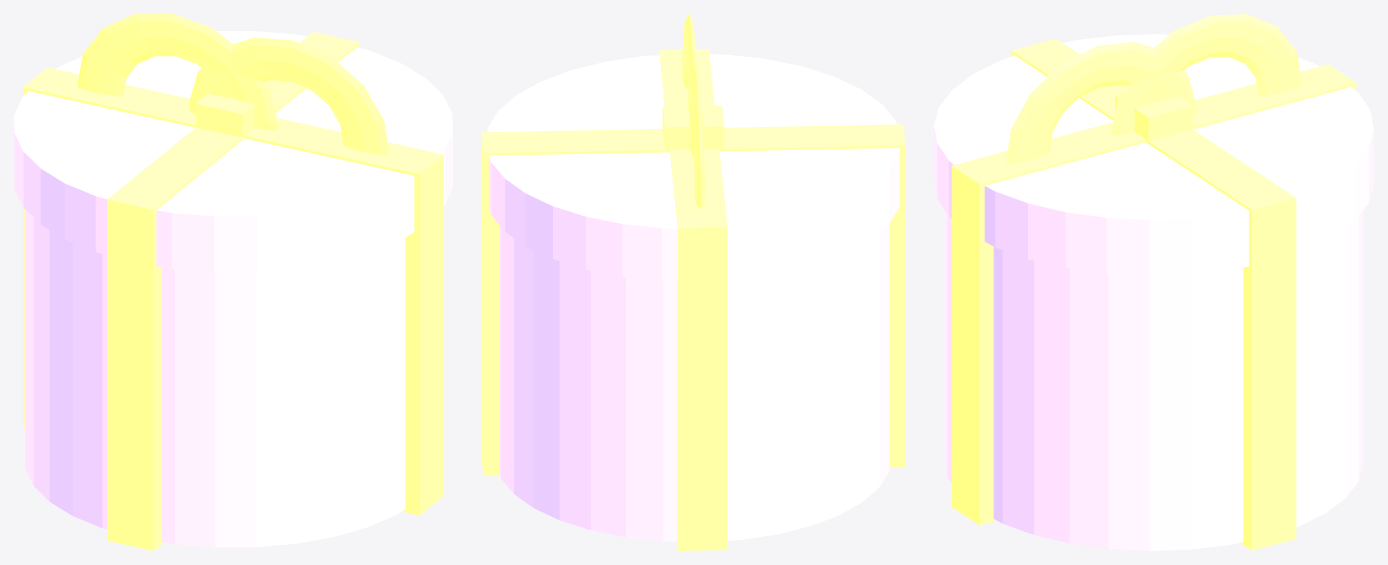
Rendered from Tmpl_Round_Root_214.glb.
The picture shows the model from 3 angles, left to right: view 1: azimuth 30°, elevation 25°; view 2: azimuth 150°, elevation 25°; view 3: azimuth 270°, elevation 25°; orthographic projection. The views are drawn at different scales.
Visible parts, largest first — view 1: Tmpl_Round_Base.212, Tmpl_Round_Lid.212, Tmpl_Round_Ribbon_Y.212, Tmpl_Round_Ribbon_X.212, Tmpl_Round_BowR.212, Tmpl_Round_BowL.212, Tmpl_Round_BowKnot.212; view 2: Tmpl_Round_Base.212, Tmpl_Round_Lid.212, Tmpl_Round_Ribbon_X.212, Tmpl_Round_Ribbon_Y.212, Tmpl_Round_BowKnot.212, Tmpl_Round_BowR.212, Tmpl_Round_BowL.212; view 3: Tmpl_Round_Base.212, Tmpl_Round_Lid.212, Tmpl_Round_Ribbon_Y.212, Tmpl_Round_Ribbon_X.212, Tmpl_Round_BowR.212, Tmpl_Round_BowL.212, Tmpl_Round_BowKnot.212.
Part boxes in pixels (bbox=[...]): Tmpl_Round_Base.212: bbox=[24, 209, 405, 547]; Tmpl_Round_Lid.212: bbox=[14, 31, 452, 272]; Tmpl_Round_Ribbon_Y.212: bbox=[107, 32, 359, 550]; Tmpl_Round_Ribbon_X.212: bbox=[23, 67, 443, 515]; Tmpl_Round_BowR.212: bbox=[77, 14, 278, 130]; Tmpl_Round_BowL.212: bbox=[188, 37, 389, 154]; Tmpl_Round_BowKnot.212: bbox=[195, 90, 271, 139]; Tmpl_Round_Base.212: bbox=[499, 223, 889, 541]; Tmpl_Round_Lid.212: bbox=[487, 54, 899, 281]; Tmpl_Round_Ribbon_X.212: bbox=[659, 49, 727, 550]; Tmpl_Round_Ribbon_Y.212: bbox=[481, 124, 905, 475]; Tmpl_Round_BowKnot.212: bbox=[662, 105, 724, 152]; Tmpl_Round_BowR.212: bbox=[687, 65, 704, 208]; Tmpl_Round_BowL.212: bbox=[682, 14, 697, 156]; Tmpl_Round_Base.212: bbox=[944, 210, 1363, 550]; Tmpl_Round_Lid.212: bbox=[934, 34, 1373, 275]; Tmpl_Round_Ribbon_Y.212: bbox=[1011, 38, 1296, 550]; Tmpl_Round_Ribbon_X.212: bbox=[951, 64, 1356, 525]; Tmpl_Round_BowR.212: bbox=[1111, 14, 1302, 135]; Tmpl_Round_BowL.212: bbox=[1005, 41, 1196, 164]; Tmpl_Round_BowKnot.212: bbox=[1115, 94, 1192, 143].
Bounding box in the file's own units: 0.8004 × 0.8723 × 0.8004.
